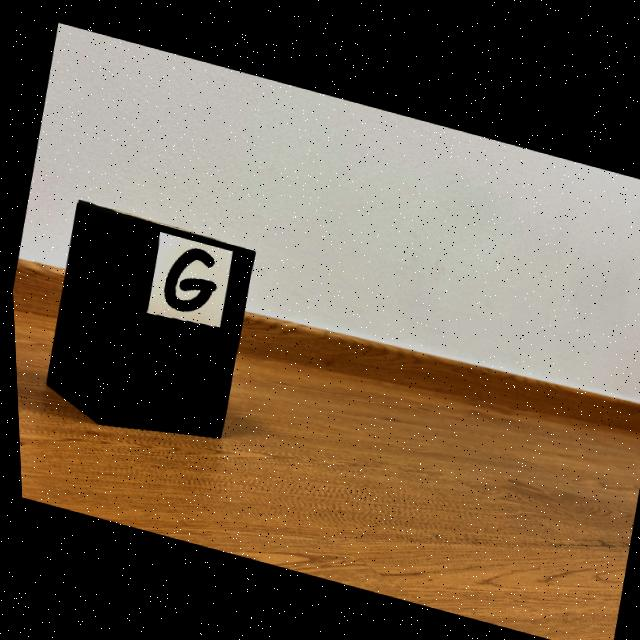G: (162, 246, 212, 310)
